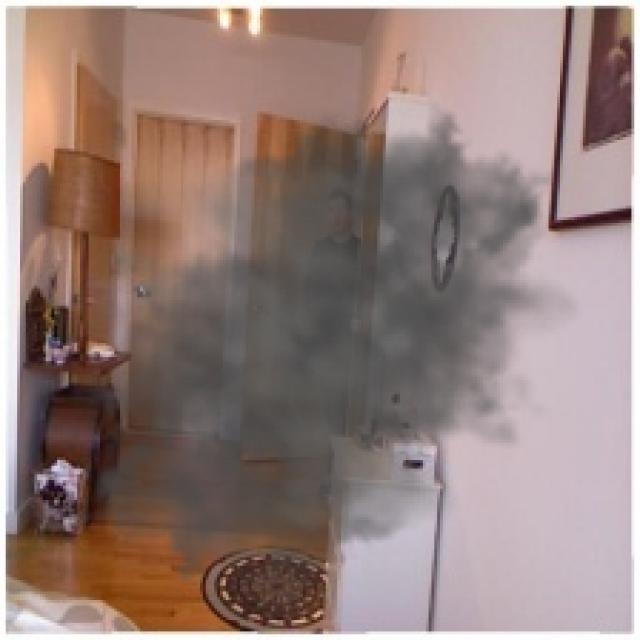Smoke: (51, 77, 583, 620)
